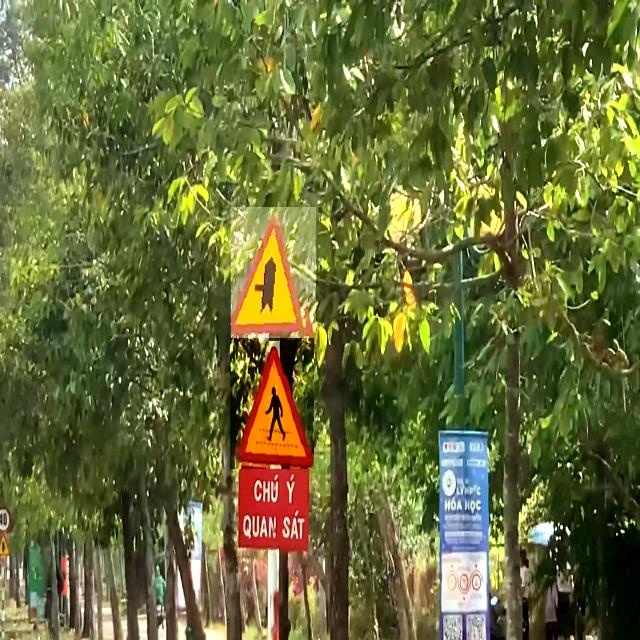bien_nguy_hiem: (231, 207, 316, 344), (230, 338, 314, 469)
